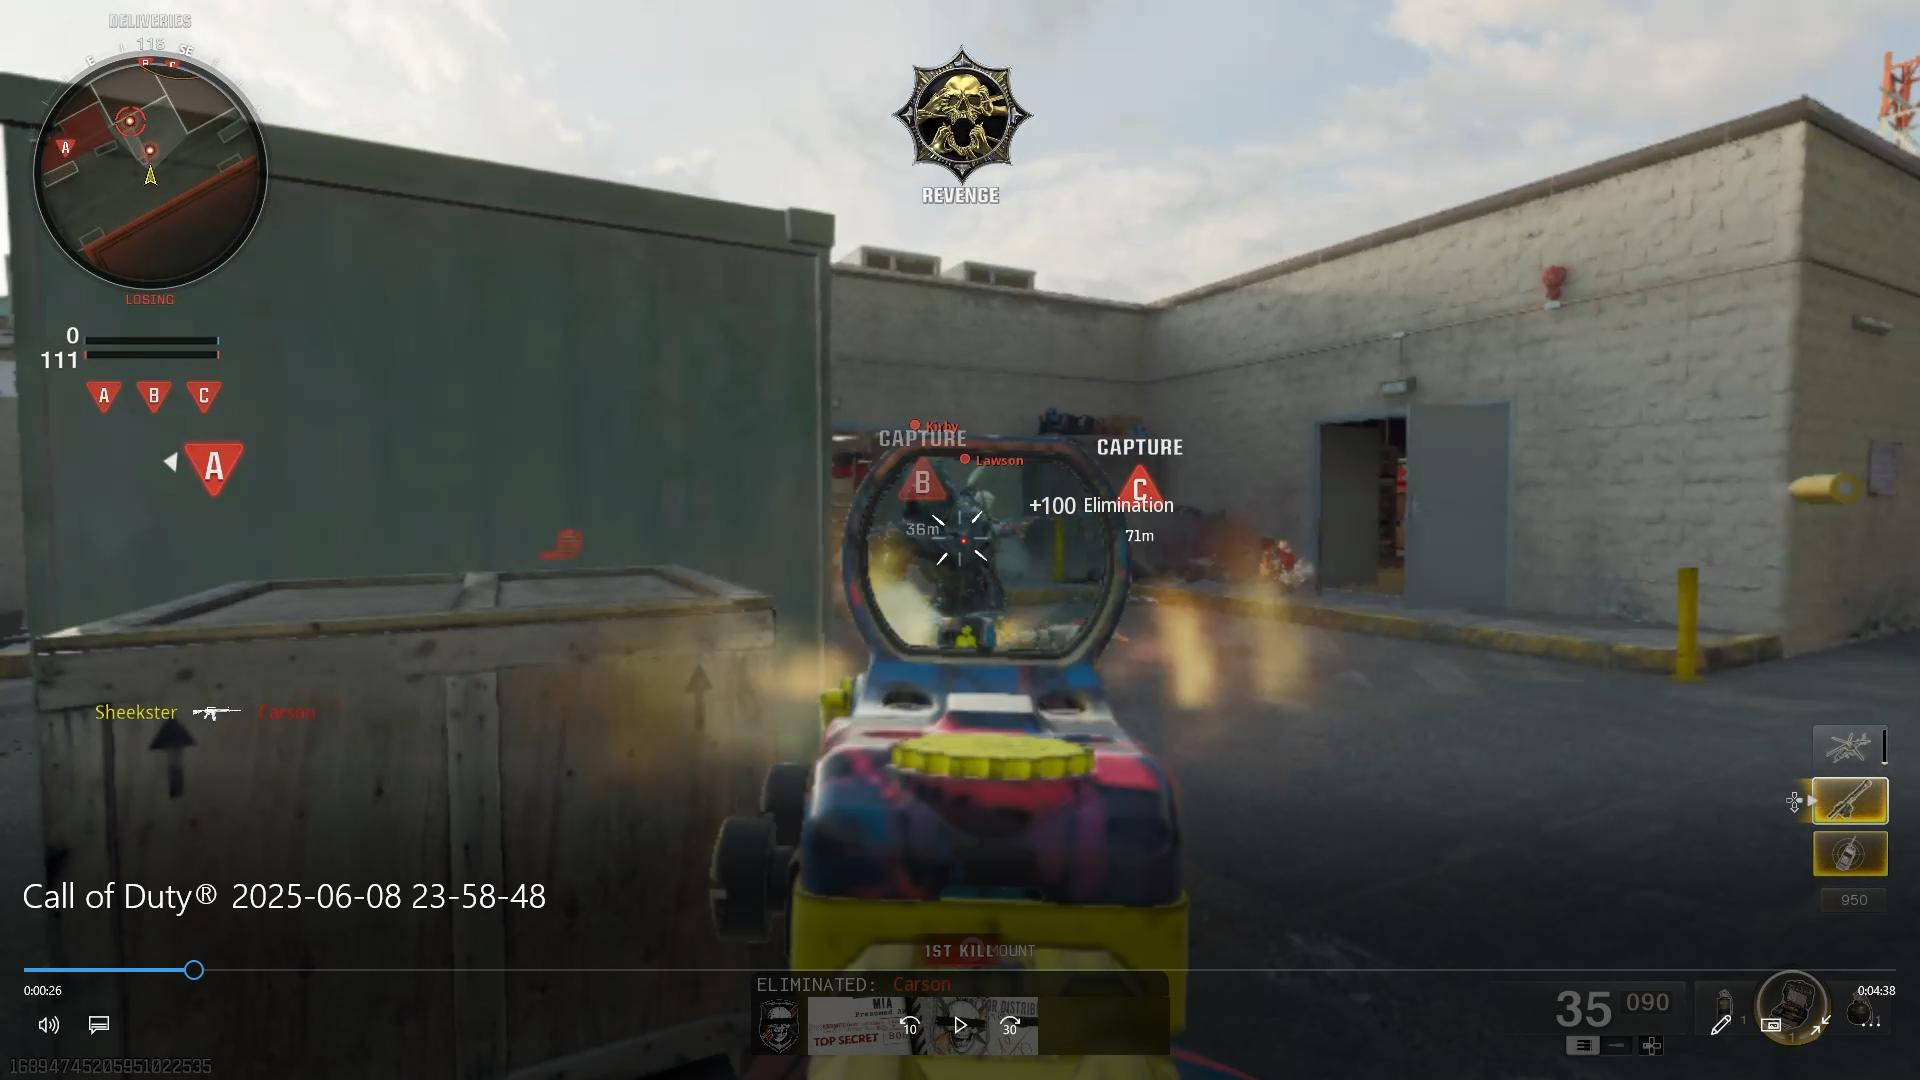Enemy: (901, 475, 1006, 637), (1249, 522, 1325, 615)
